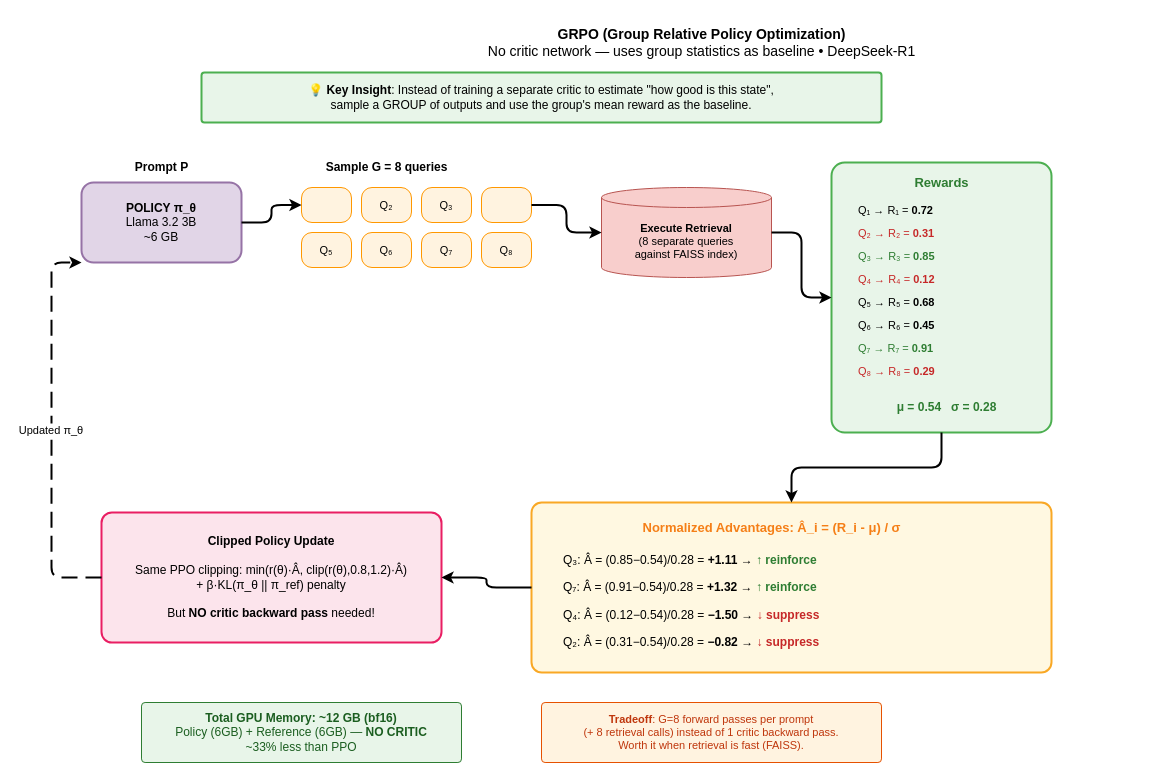
The diagram is 1168 pixels wide and 780 high, and some of its shapes have lost their labels. The centre of each missing label's shape, as x and y in pixels:
Q₁: the point at 326,204
Q₄: the point at 506,204
